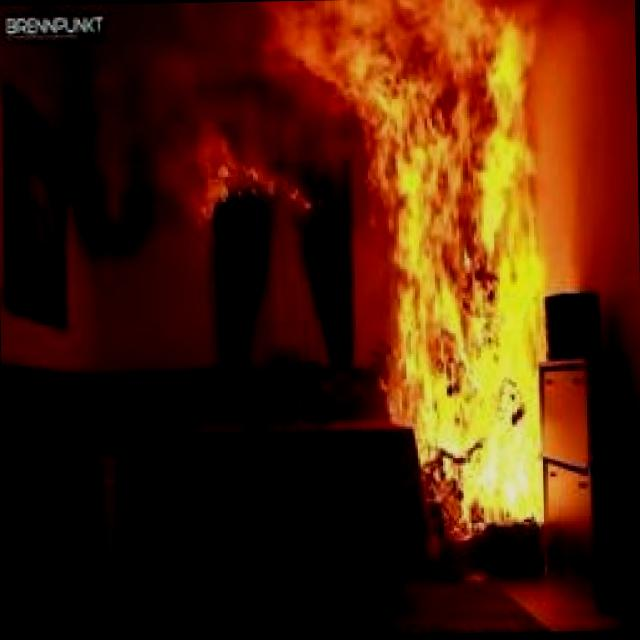fire: (261, 0, 615, 533)
